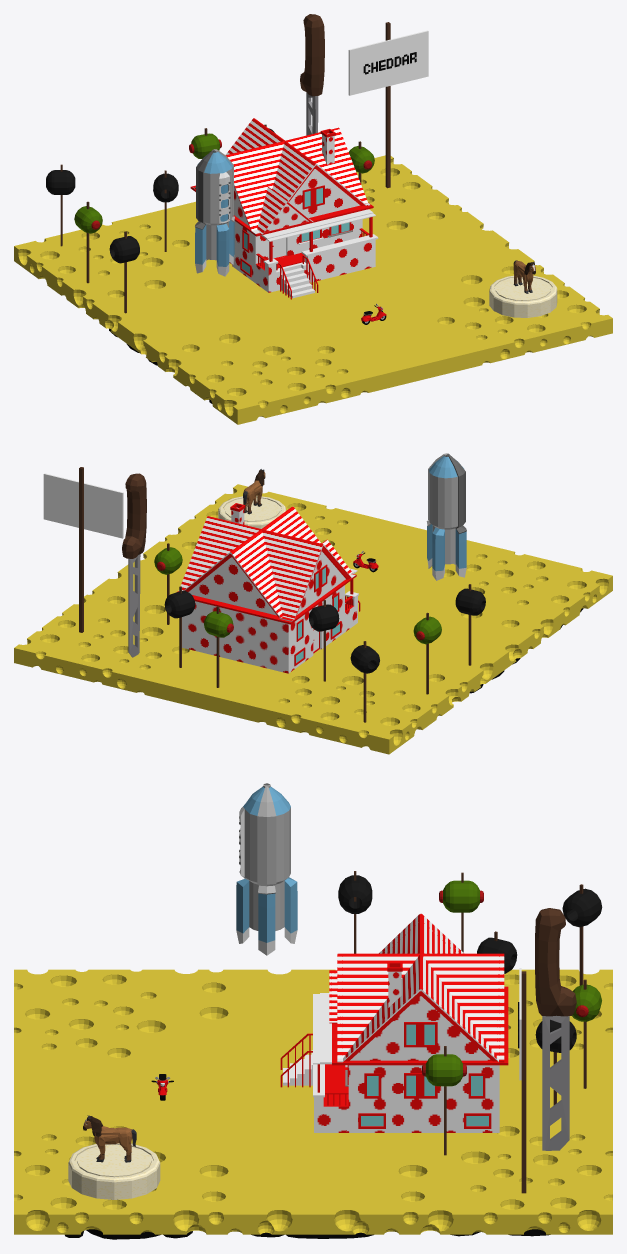
The picture shows the model from 3 angles, top to bottom: view 1: azimuth 30°, elevation 25°; view 2: azimuth 150°, elevation 25°; view 3: azimuth 270°, elevation 25°; orthographic projection. The views are drawn at different scales.
Parts seen in each view (by area): view 1: Cube.022, Cube.196, Cube.023, OBJRANDOM_ROCKETSHIP, Cylinder.016, Cube.024, Sphere.017, Sphere.016, Sphere.018, Sphere.020, Sphere.022, Sphere.019; view 2: Cube.022, Cube.196, Cube.023, OBJRANDOM_ROCKETSHIP, Cube.024, Cylinder.016, Sphere.017, Sphere.022, Sphere.016, Sphere.021, Sphere.020, Sphere.018 (+2 smaller); view 3: Cube.022, Cube.196, OBJRANDOM_ROCKETSHIP, Cube.024, Cylinder.016, Cube.023, Sphere.016, Sphere.019, Curve.014, Sphere.018, Sphere.017, ANIMAL_CABALLO (+3 smaller).
Part boxes in pixels (x1,y1,x2,y2): Cube.022: [14, 155, 612, 424]; Cube.196: [190, 118, 378, 299]; Cube.023: [348, 22, 428, 188]; OBJRANDOM_ROCKETSHIP: [195, 149, 234, 276]; Cylinder.016: [489, 275, 557, 317]; Cube.024: [300, 14, 324, 135]; Sphere.017: [109, 231, 139, 313]; Sphere.016: [46, 164, 75, 246]; Sphere.018: [74, 201, 102, 283]; Sphere.020: [153, 170, 178, 251]; Sphere.022: [189, 128, 221, 158]; Sphere.019: [349, 141, 374, 183]; Cube.022: [14, 484, 612, 754]; Cube.196: [177, 503, 360, 673]; Cube.023: [43, 467, 123, 632]; OBJRANDOM_ROCKETSHIP: [426, 453, 466, 580]; Cube.024: [122, 473, 146, 657]; Cylinder.016: [218, 496, 286, 528]; Sphere.017: [455, 584, 485, 665]; Sphere.022: [203, 606, 233, 687]; Sphere.016: [350, 641, 379, 722]; Sphere.021: [164, 586, 195, 667]; Sphere.020: [309, 600, 339, 681]; Sphere.018: [413, 612, 441, 694]; Cube.022: [14, 969, 612, 1234]; Cube.196: [280, 913, 508, 1132]; OBJRANDOM_ROCKETSHIP: [236, 783, 297, 955]; Cube.024: [535, 908, 576, 1150]; Cylinder.016: [68, 1143, 160, 1199]; Cube.023: [518, 968, 526, 1193]; Sphere.016: [562, 884, 602, 985]; Sphere.019: [422, 1046, 466, 1155]; Curve.014: [65, 1229, 550, 1239]; Sphere.018: [439, 872, 483, 952]; Sphere.017: [338, 871, 372, 953]; ANIMAL_CABALLO: [83, 1115, 136, 1162].
Size of the model in its own units: 3917 by 1980 by 4000.
Materials: 35 (4 with a texture image).
